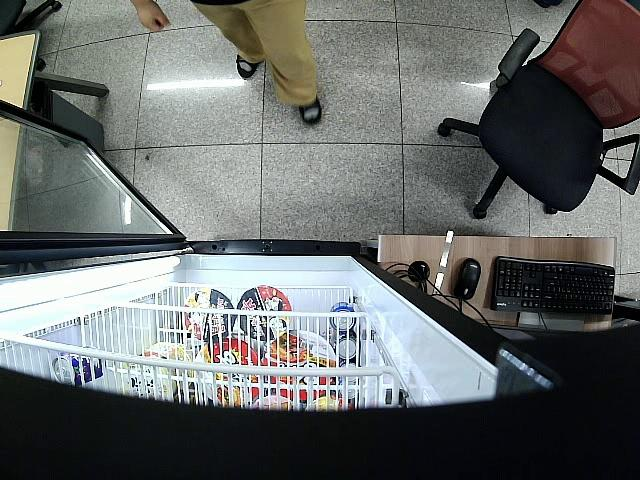00_hand: (137, 0, 171, 33)
